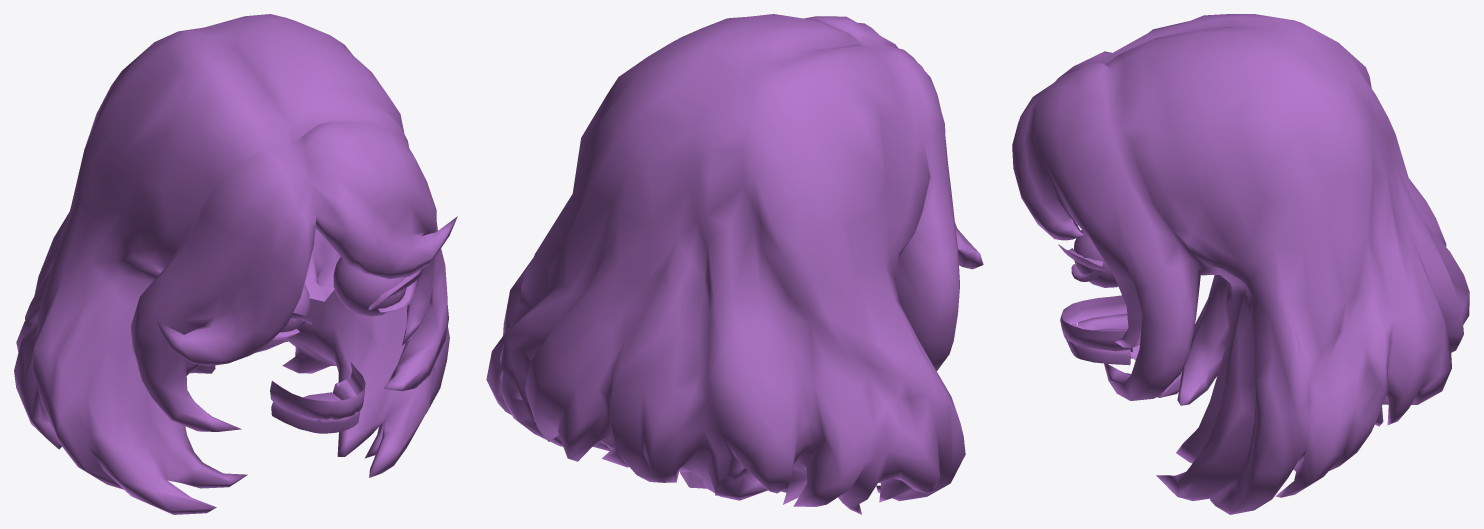
File: paladins_head.obj
The picture shows the model from 3 angles, left to right: view 1: azimuth 30°, elevation 25°; view 2: azimuth 150°, elevation 25°; view 3: azimuth 270°, elevation 25°; orthographic projection. The views are drawn at different scales.
Visible parts, largest first — view 1: paladins_skye_head; view 2: paladins_skye_head; view 3: paladins_skye_head.
Boxes of the visible parts, <box> form: paladins_skye_head: <box>14,14,457,514</box>; paladins_skye_head: <box>486,14,983,514</box>; paladins_skye_head: <box>1012,14,1469,514</box>.
Size of the model in its own units: 9.38 by 9.52 by 9.43.
